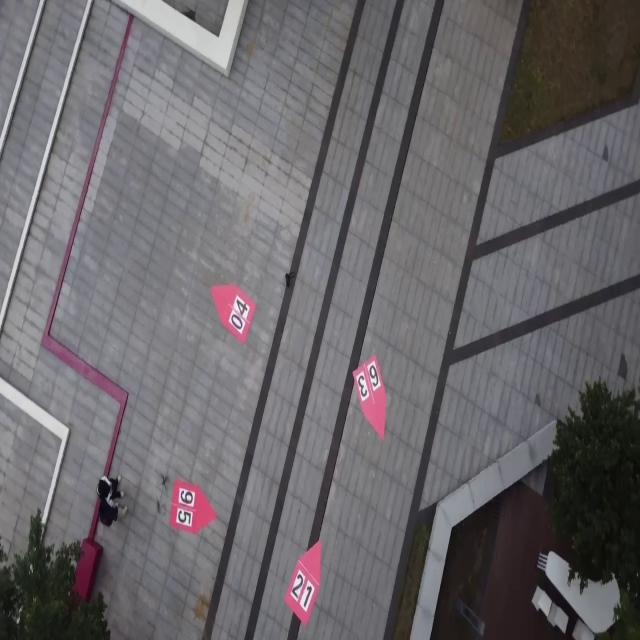-sign-: (285, 538, 323, 626), (352, 354, 386, 441), (210, 282, 256, 346), (170, 480, 217, 536)
